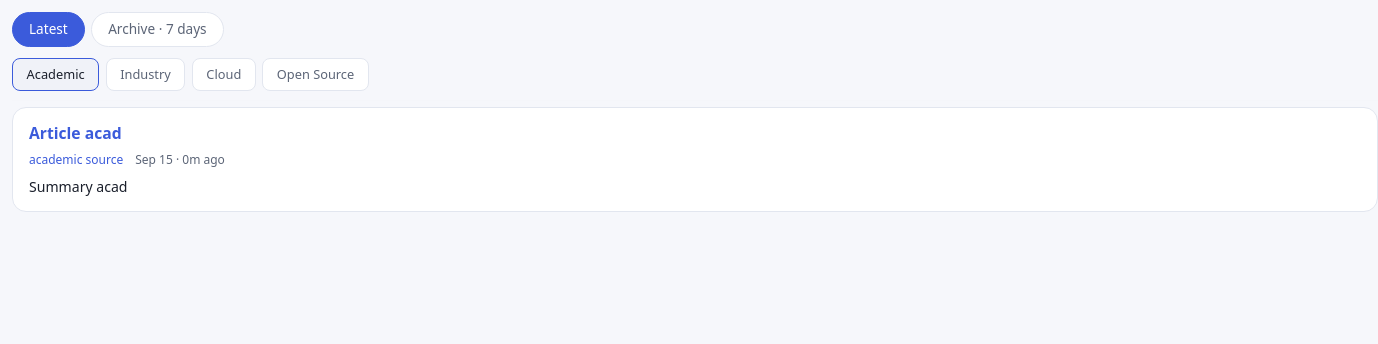
Test: NewsFeed — category filtering › shows only the selected category's articles
The width and height of the screenshot is (1378, 344).
Step 1. Click the tab "Open Source" → (316, 75), box [262,58,369,91]
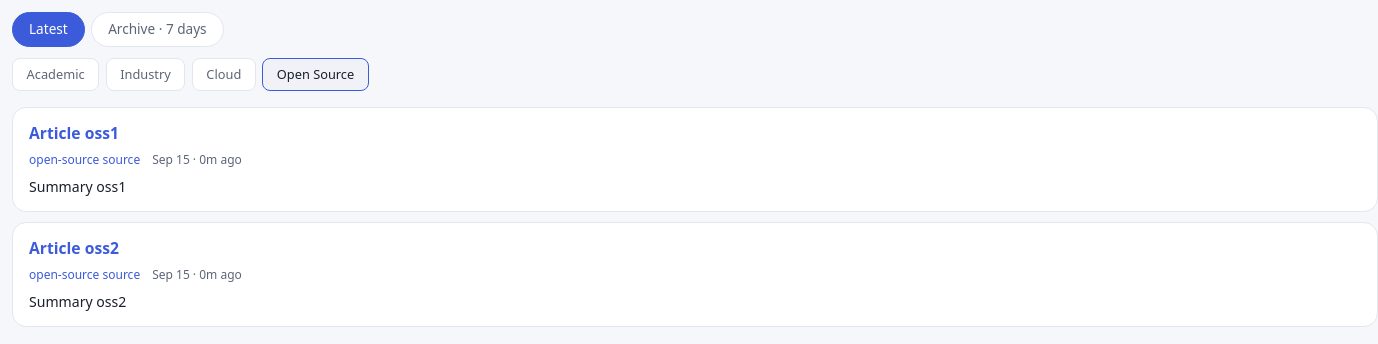
Check: the link "Article oss1" is shown, box [29,122,119,144]
Check: the link "Article oss2" is shown, box [29,237,119,259]
Check: the link "Article acad" no longer shows "Article acad"
